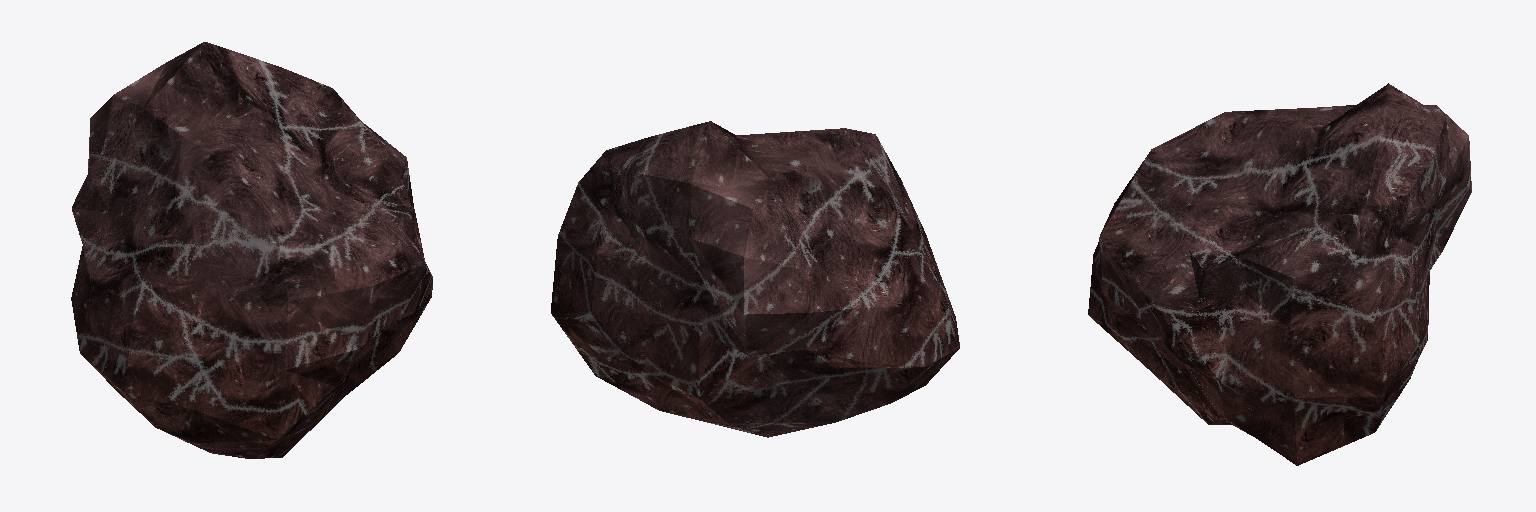
3 renders of one model, left to right at view 1: azimuth 30°, elevation 25°; view 2: azimuth 150°, elevation 25°; view 3: azimuth 270°, elevation 25°, orthographic.
Parts seen in each view (by area): view 1: Cube.002_Cube.003; view 2: Cube.002_Cube.003; view 3: Cube.002_Cube.003.
Boxes of the visible parts, x1,y1,x2,y2 form: Cube.002_Cube.003: [71, 42, 432, 458]; Cube.002_Cube.003: [551, 121, 959, 437]; Cube.002_Cube.003: [1088, 83, 1471, 465].
Size of the model in its own units: 2 by 2 by 2.
Materials: 1 (1 with a texture image).